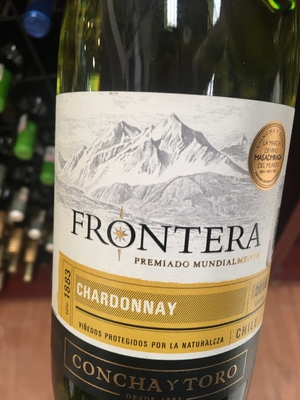frontera chardonnay: (42, 12, 289, 400)
